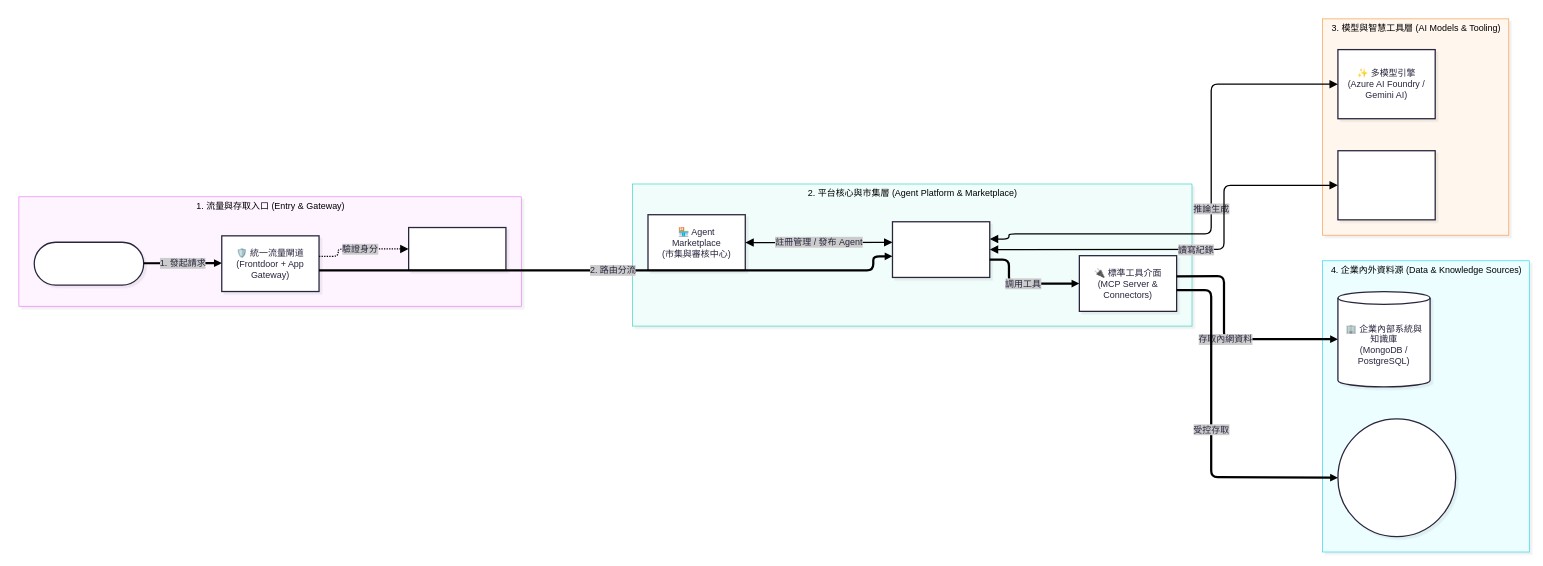
Some shapes in this 1543 by 566 pixel diagram are drawn without their labels. Each missing label, with the centre of its shape:
"🌐 外部資訊來源 (Web Search / External API)" belongs at (1398,479).
"👤 內部使用者 (Internal User)" belongs at (90,264).
"📚 平台記憶與知識庫 (Vector DB / Storage)" belongs at (1387,186).
"🔐 身分驗證 (Entra ID)" belongs at (458,250).
"🧠 Agent Hub (調度與執行中樞 / n8n & API)" belongs at (942,250).
